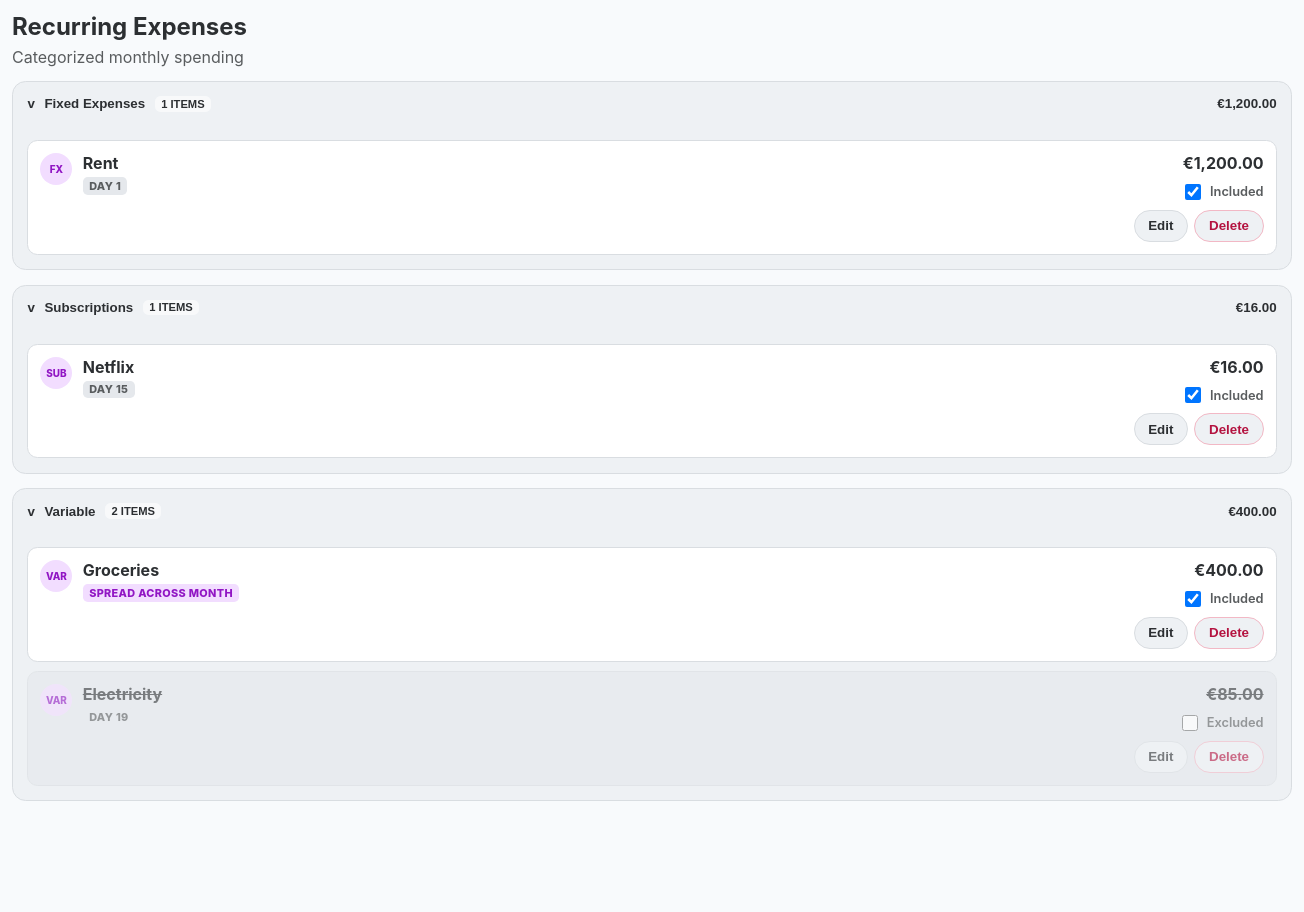
Test: ExpenseList › collapses and expands category content
This screenshot has width=1304, height=912.
Expected: the element with test id "expense-row-fixed-1" is shown, [27,140,1277,255]
What coordinates should you click on to do the following:
click the button with test id "category-toggle-FIXED"
I would click on:
 (95, 104)
Its box is [13,82,1291,126].
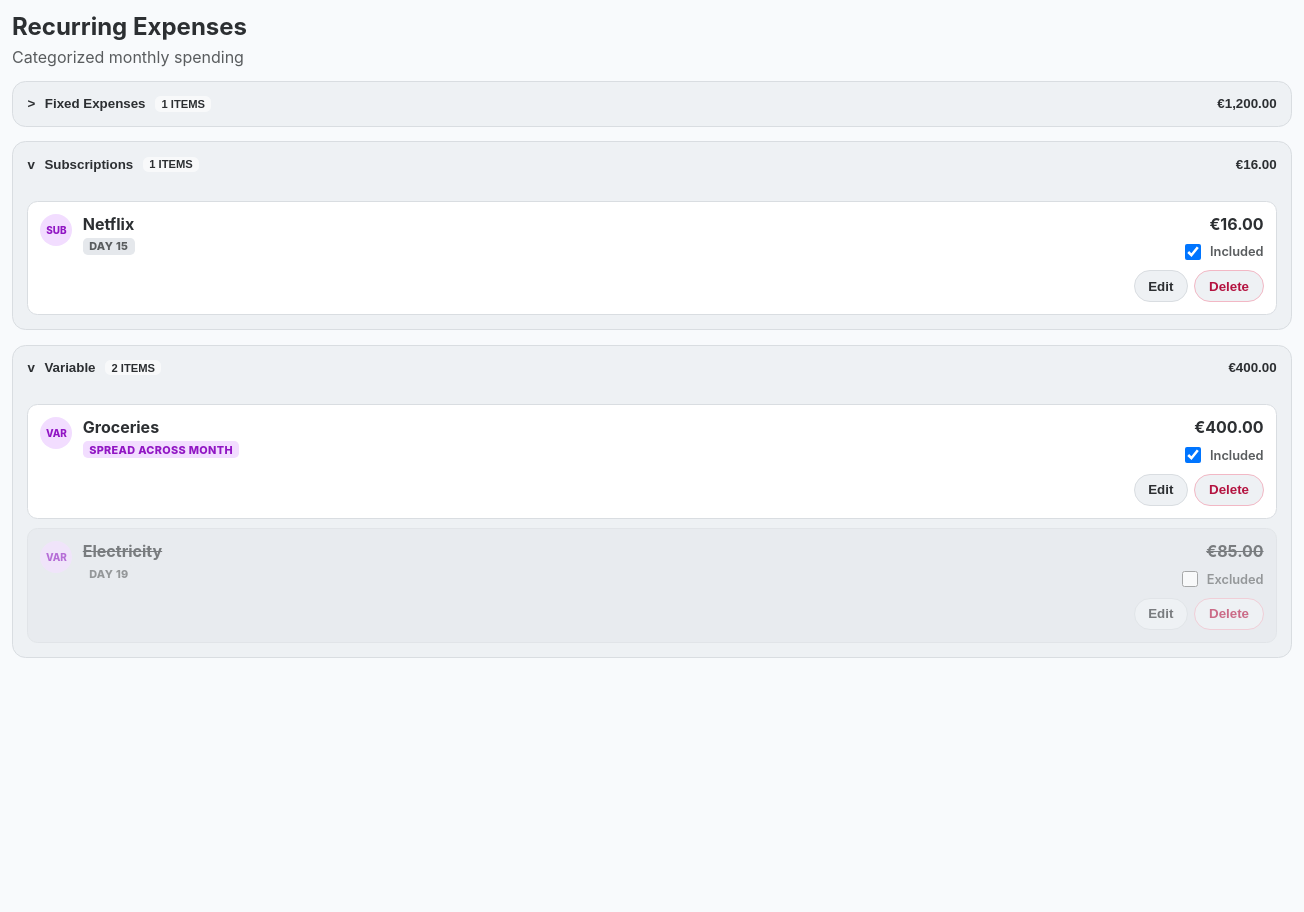
Expected: the button with test id "category-toggle-FIXED" is collapsed
Expected: the element with test id "expense-row-fixed-1" is gone
What coordinates should you click on to do the following:
click the button with test id "category-toggle-FIXED"
I would click on:
 (95, 104)
Its box is [13,82,1291,126].
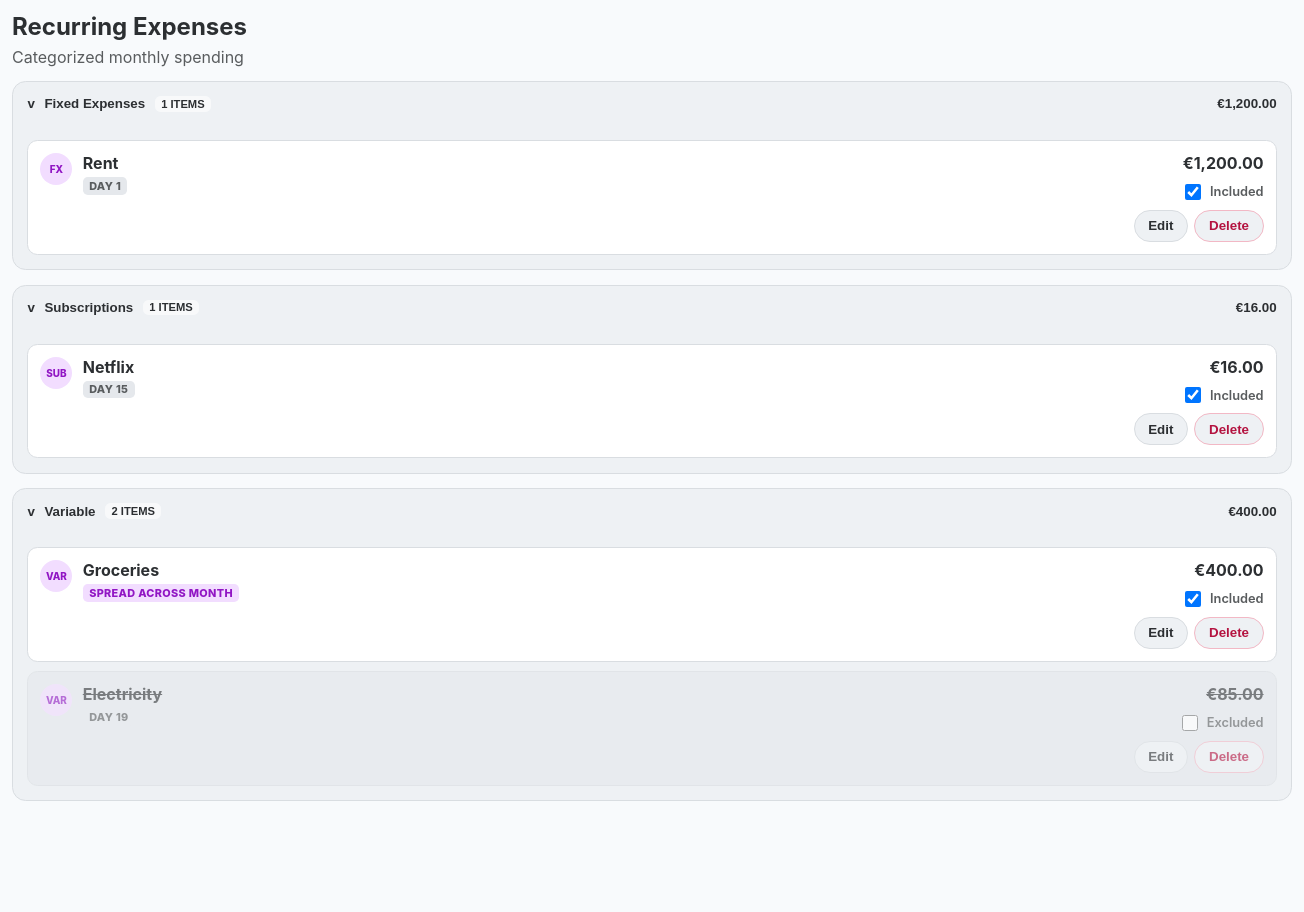
Expected: the button with test id "category-toggle-FIXED" is expanded, [13,82,1291,126]
Expected: the element with test id "expense-row-fixed-1" is shown, [27,140,1277,255]
